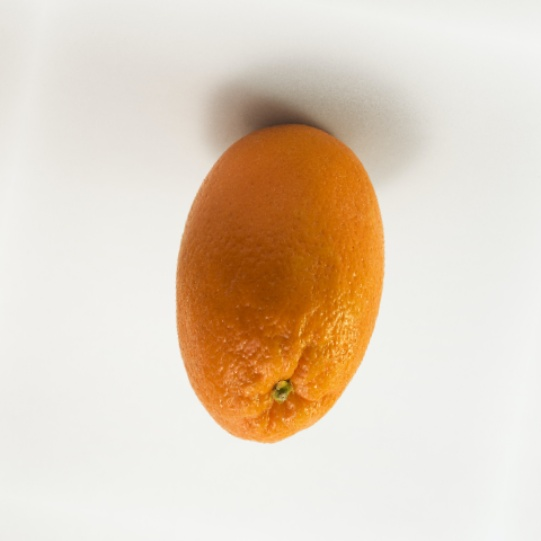orange: (87, 58, 450, 504)
